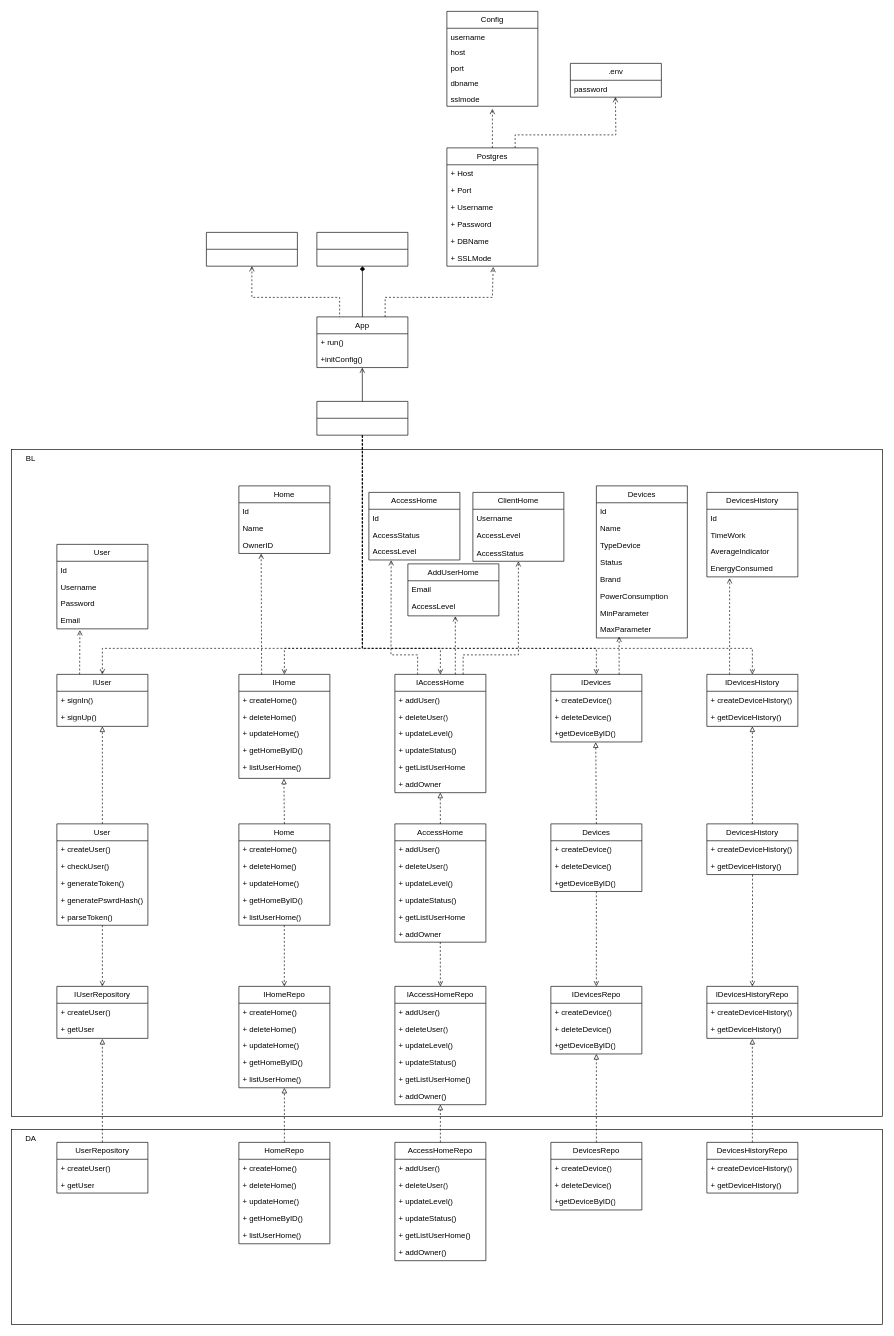
Some shapes in this 894 by 1336 pixel diagram are drawn without their labels. Each missing label, with the centre of its shape:
ClientRequest: pixel 251 249
Logger: pixel 362 249
MenuHandler: pixel 362 418
